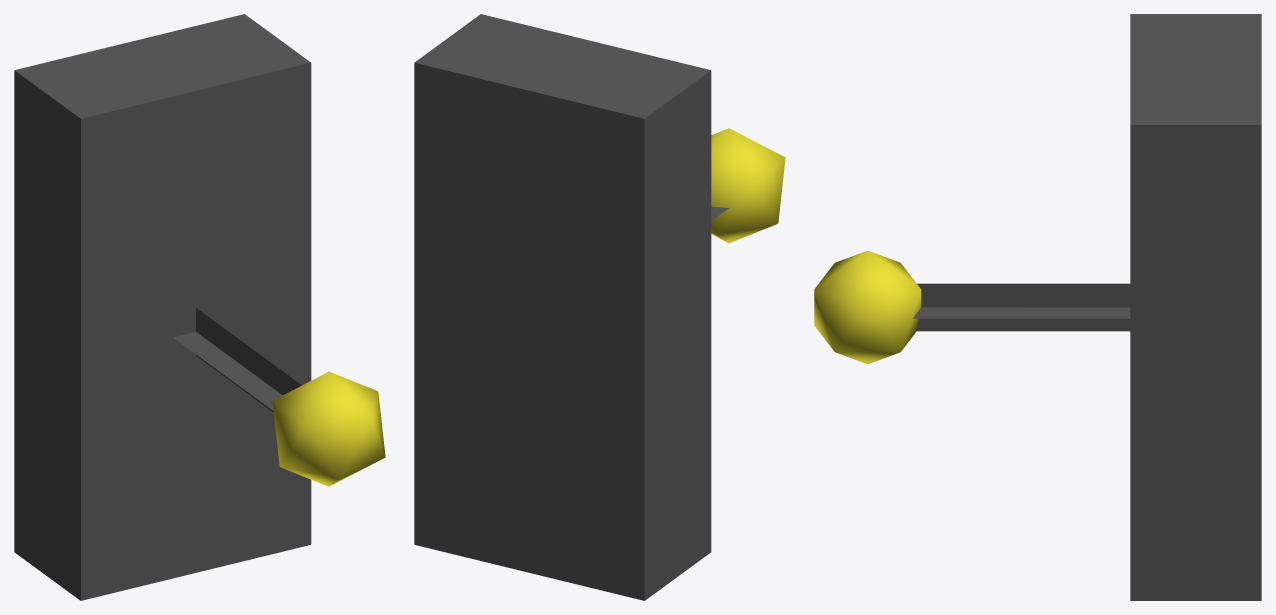
File: light_wall_mockup.fbx
The picture shows the model from 3 angles, left to right: view 1: azimuth 30°, elevation 25°; view 2: azimuth 150°, elevation 25°; view 3: azimuth 270°, elevation 25°; orthographic projection.
Visible parts, largest first — view 1: Icosphere.004; view 2: Icosphere.004; view 3: Icosphere.004.
Part boxes in pixels (left/top/right/bottom): Icosphere.004: left=14, top=14, right=385, bottom=600; Icosphere.004: left=414, top=14, right=785, bottom=600; Icosphere.004: left=814, top=14, right=1261, bottom=600.
Size of the model in its own units: 0.1 by 0.1704 by 0.2.
